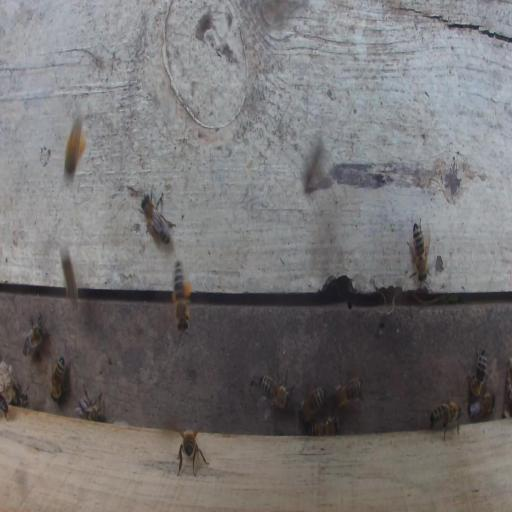bee: (141, 191, 177, 245), (177, 427, 209, 477), (172, 257, 192, 335), (407, 218, 430, 283), (259, 371, 295, 411), (64, 112, 87, 174), (429, 399, 462, 441), (305, 138, 326, 192), (22, 313, 47, 357), (298, 385, 326, 424), (332, 375, 363, 408), (467, 347, 487, 398), (76, 391, 104, 421), (469, 392, 495, 420), (51, 355, 65, 401), (310, 415, 341, 435), (0, 393, 9, 422)
